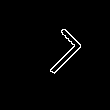L_SW: (26, 26, 84, 84)
